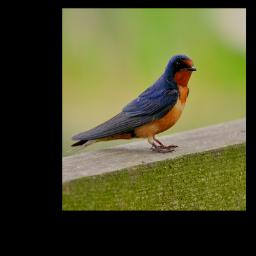Swallow: (70, 50, 200, 159)
